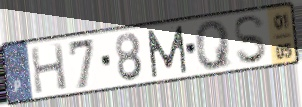7: (66, 39, 97, 91)
8: (114, 31, 144, 84)
H: (29, 41, 69, 96)
M: (145, 24, 189, 80)
Q: (193, 18, 234, 72)
S: (232, 13, 269, 66)
